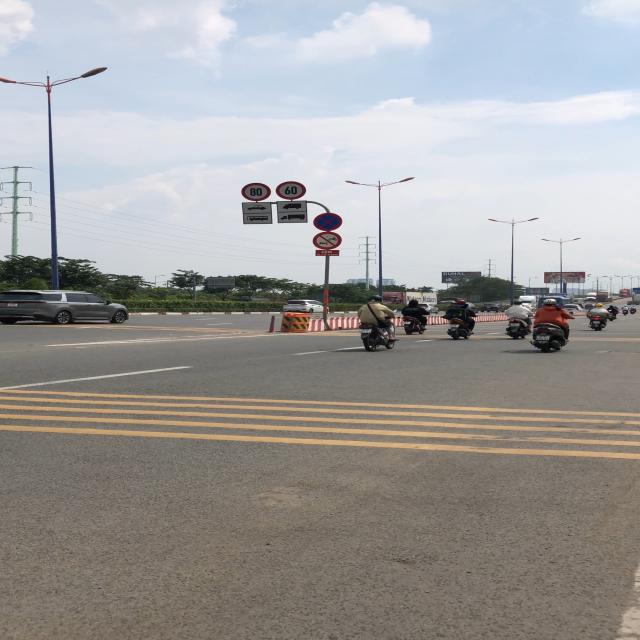Bien bao cam dung xe va do xe: (312, 212, 348, 232)
Bien bao toc do toi da cho phep: (275, 180, 309, 200), (240, 182, 272, 203)
